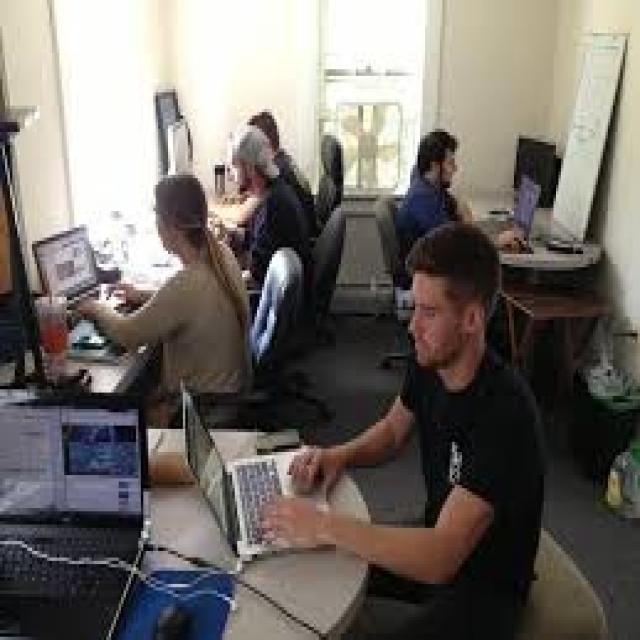nonfall: (365, 208, 576, 628), (114, 166, 255, 410), (236, 113, 295, 264), (388, 125, 468, 228)
